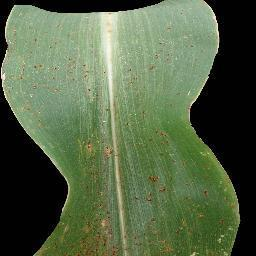Corn_Common_Rust: (0, 19, 103, 100), (78, 143, 119, 256), (138, 213, 239, 256), (147, 12, 200, 71), (26, 204, 77, 256), (117, 56, 147, 130), (204, 0, 224, 93), (120, 188, 138, 256), (14, 100, 43, 132), (144, 172, 172, 205), (151, 125, 172, 161), (93, 100, 110, 142), (104, 9, 119, 36), (200, 187, 213, 200)
